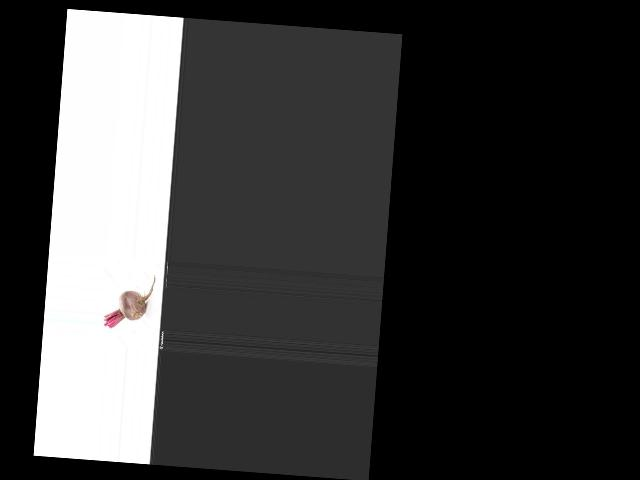beet: (103, 271, 155, 330)
